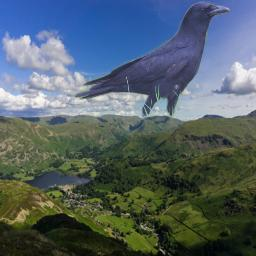Crow: (73, 1, 230, 128)
